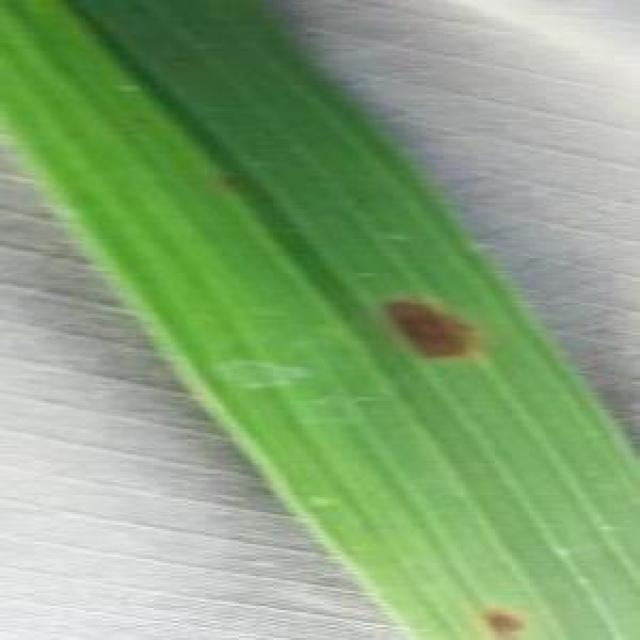Brown_Spot: (372, 289, 490, 370), (475, 586, 529, 640)
